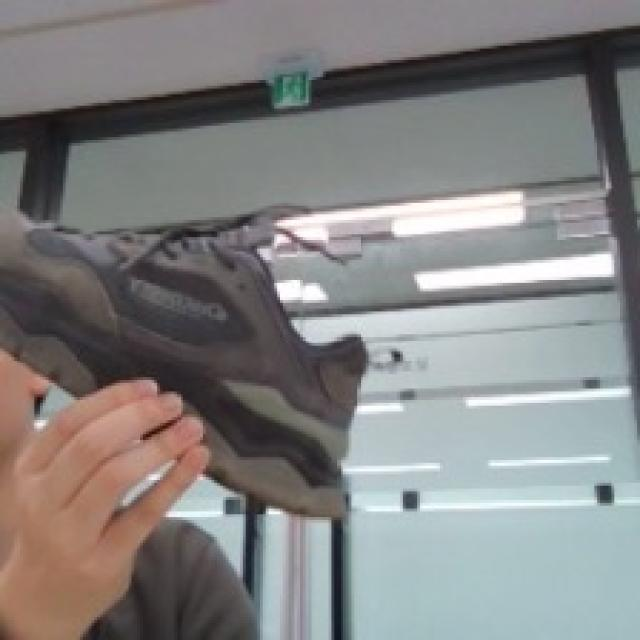shoe: (0, 131, 385, 527)
